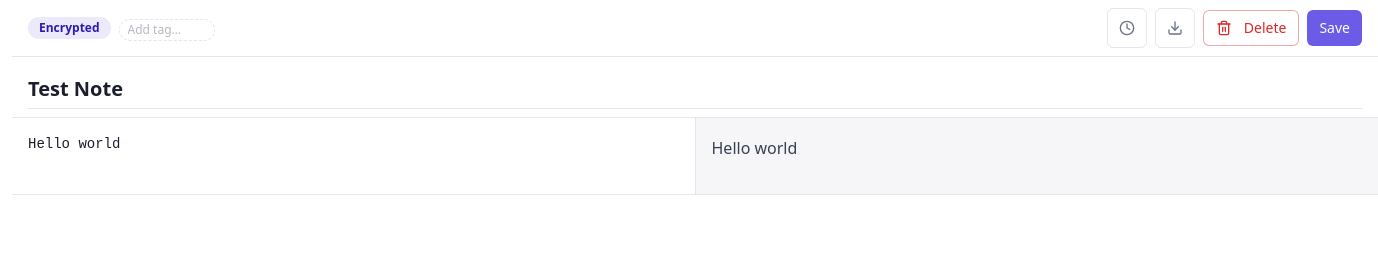
it: VersionHistoryPanel — corrupted versions › shows warning style for a version that could not be decrypted
expect the field showing "Test Note" is shown: met, box [28, 69, 1362, 109]
What coordinates should you click on to do the following:
click the button named "version history"
I would click on:
 (1127, 28)
Its box is [1107, 8, 1147, 48].
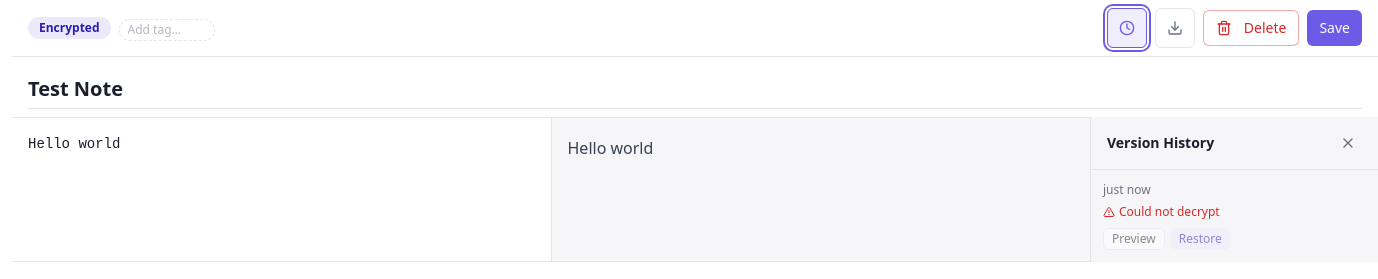
expect the heading "Version History" is shown: met, box [1107, 133, 1214, 153]
expect the text "Could not decrypt" is shown: met, box [1103, 203, 1220, 220]
